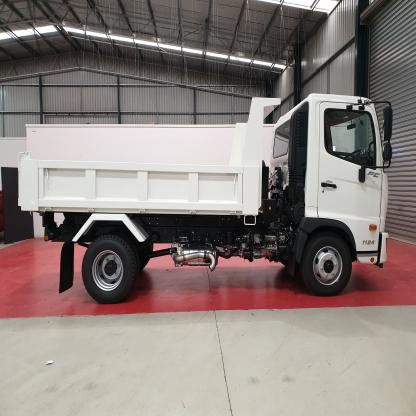dump_truck: (14, 74, 398, 298)
